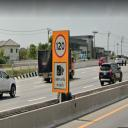speed_limit_120: (53, 32, 68, 60)
